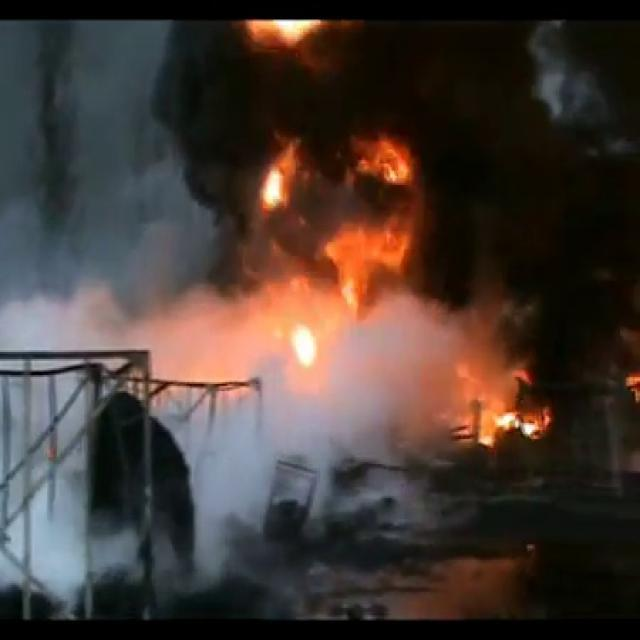Fire: (220, 130, 423, 378), (464, 391, 552, 448)
Smoke: (22, 20, 639, 302)
